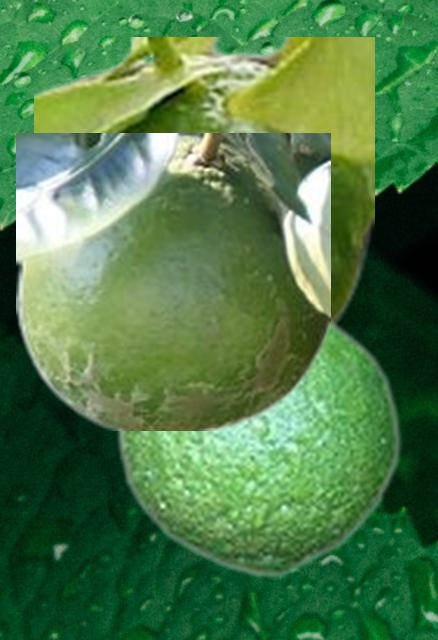dalandan: (34, 37, 373, 325), (16, 133, 329, 429), (114, 313, 401, 578)
